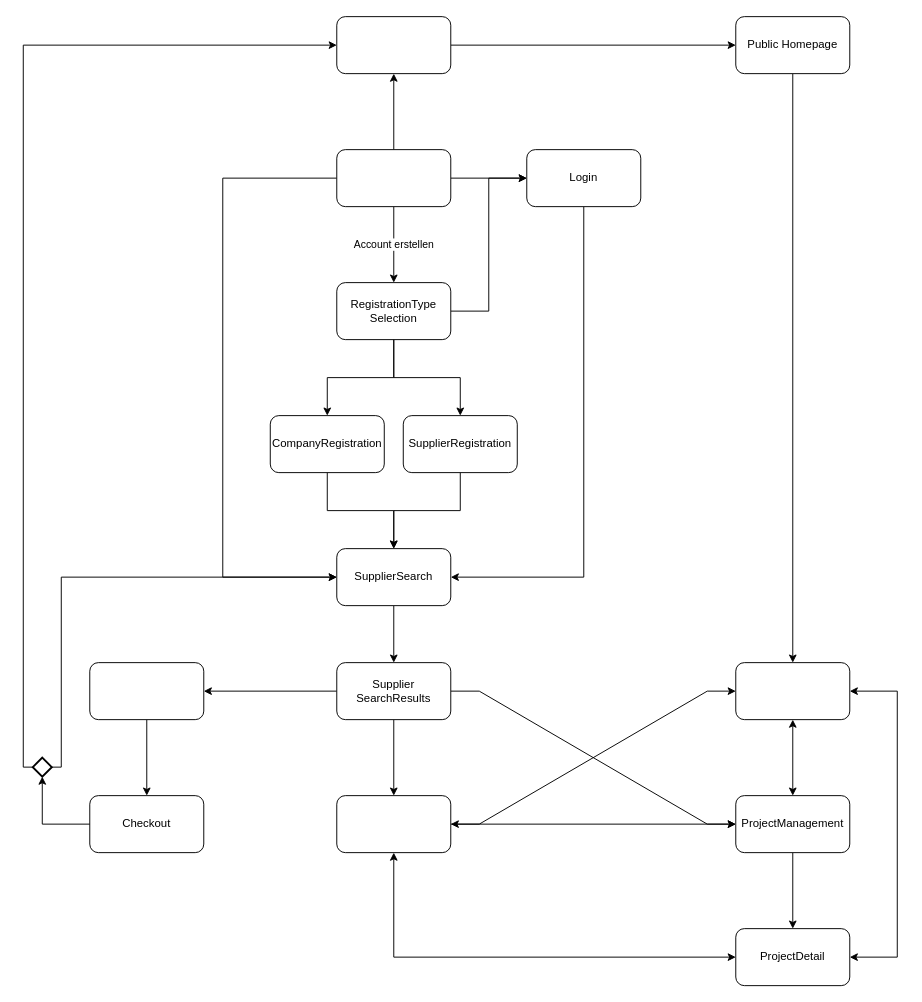
This 922x1002 diagram has some shape labels left out. The box of each missing label's shape, as (x1, y1, x2, y2) in pixels:
Home: (336, 149, 451, 207)
PlansOverview: (89, 662, 204, 720)
ProfilEdit: (336, 16, 451, 74)
SupplierContact: (735, 662, 850, 720)
SupplierDetail: (336, 795, 451, 853)
